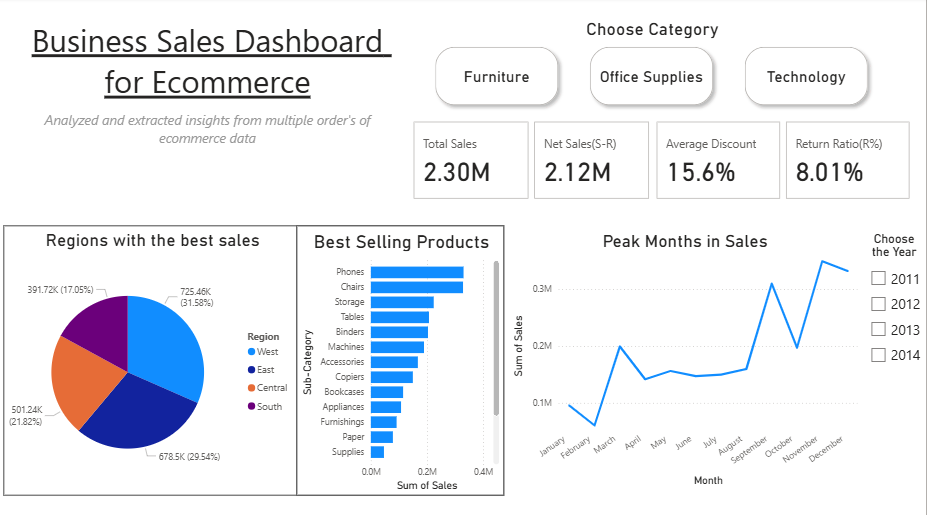

This screenshot's page, from the dashboard's own definition file:
{"tool":"powerbi","page":{"name":"Visual Report","canvas":[1280,720],"ordinal":0},"visuals":[{"type":"cardVisual","fields":{"Data":["Orders.Return Ratio","Orders.Return Ratio1"]},"box":[905,166.7,358.3,116.7],"z":0,"group":"g1"},{"type":"pieChart","title":"Regions with the best sales","fields":{"Category":["Orders.Region"],"Y":["Sum(Orders.Sales)"]},"box":[10,313.3,408.3,373.3],"z":1000},{"type":"barChart","title":"Best Selling Products","fields":{"Category":["Orders.Sub-Category"],"Y":["Sum(Orders.Sales)"]},"box":[413.3,313.3,286.7,373.3],"z":2000},{"type":"cardVisual","fields":{"Data":["Orders.Sum of Sales","Orders.Net sales"]},"box":[570,166.7,335,116.7],"z":3000,"group":"g1"},{"type":"advancedSlicerVisual","title":"Choose Category","fields":{"Values":["Orders.Category"]},"box":[588.3,25,631.7,141.7],"z":4000},{"type":"lineChart","title":"Peak Months in Sales","fields":{"Category":["Orders.Order Date.Variation.Date Hierarchy.Month"],"Y":["Sum(Orders.Sales)"]},"box":[706.7,321.7,485,356.7],"z":4001},{"type":"slicer","title":"Choose the Year","fields":{"Values":["Orders.Order Date.Variation.Date Hierarchy.Year"]},"box":[1191.7,321.7,88.3,213.3],"z":4002},{"type":"textbox","box":[12.9,24.3,557.1,157.1],"z":4004},{"type":"textbox","box":[28.6,151.4,524.3,68.6],"z":4005},{"type":"group","id":"g1","title":"Group 1","box":[570,166.7,693.3,116.7],"z":4006}]}

Visuals, with their boxes in screenshot pixels (x1, y1, x2, y2), scaled from the page's 1280x720 canvas onto the 927x515 screenshot:
cardVisual - Orders.Return Ratio x Orders.Return Ratio1: {"x1": 655, "y1": 119, "x2": 915, "y2": 203}
"Regions with the best sales" pieChart: {"x1": 7, "y1": 224, "x2": 303, "y2": 491}
"Best Selling Products" barChart: {"x1": 299, "y1": 224, "x2": 507, "y2": 491}
cardVisual - Orders.Sum of Sales x Orders.Net sales: {"x1": 413, "y1": 119, "x2": 655, "y2": 203}
"Choose Category" advancedSlicerVisual: {"x1": 426, "y1": 18, "x2": 884, "y2": 119}
"Peak Months in Sales" lineChart: {"x1": 512, "y1": 230, "x2": 863, "y2": 485}
"Choose the Year" slicer: {"x1": 863, "y1": 230, "x2": 926, "y2": 383}
textbox: {"x1": 9, "y1": 17, "x2": 413, "y2": 130}
textbox: {"x1": 21, "y1": 108, "x2": 400, "y2": 157}
"Group 1" group: {"x1": 413, "y1": 119, "x2": 915, "y2": 203}
